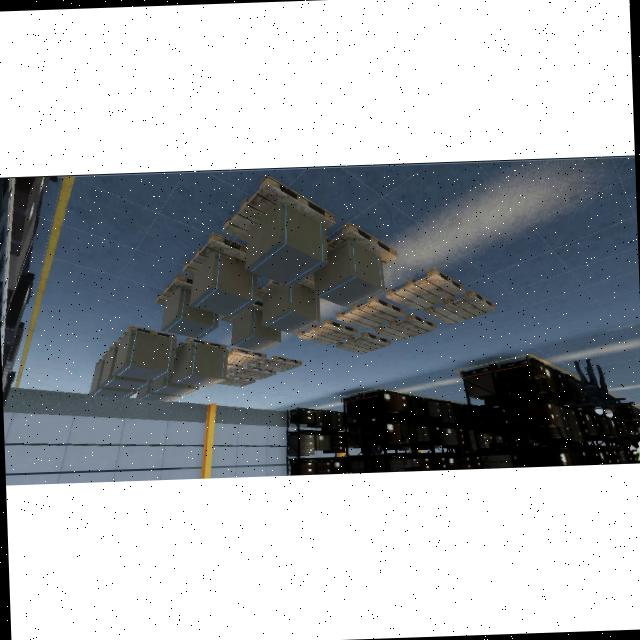wooden_pallet: (222, 174, 336, 241), (385, 268, 465, 311), (326, 221, 397, 264), (182, 231, 246, 275), (424, 290, 497, 325), (336, 296, 405, 329), (373, 313, 438, 341), (297, 318, 359, 345), (335, 331, 391, 355), (155, 274, 192, 305), (117, 326, 177, 343), (255, 355, 302, 372), (175, 337, 227, 351), (228, 347, 266, 366), (233, 366, 276, 380), (219, 375, 256, 387)
